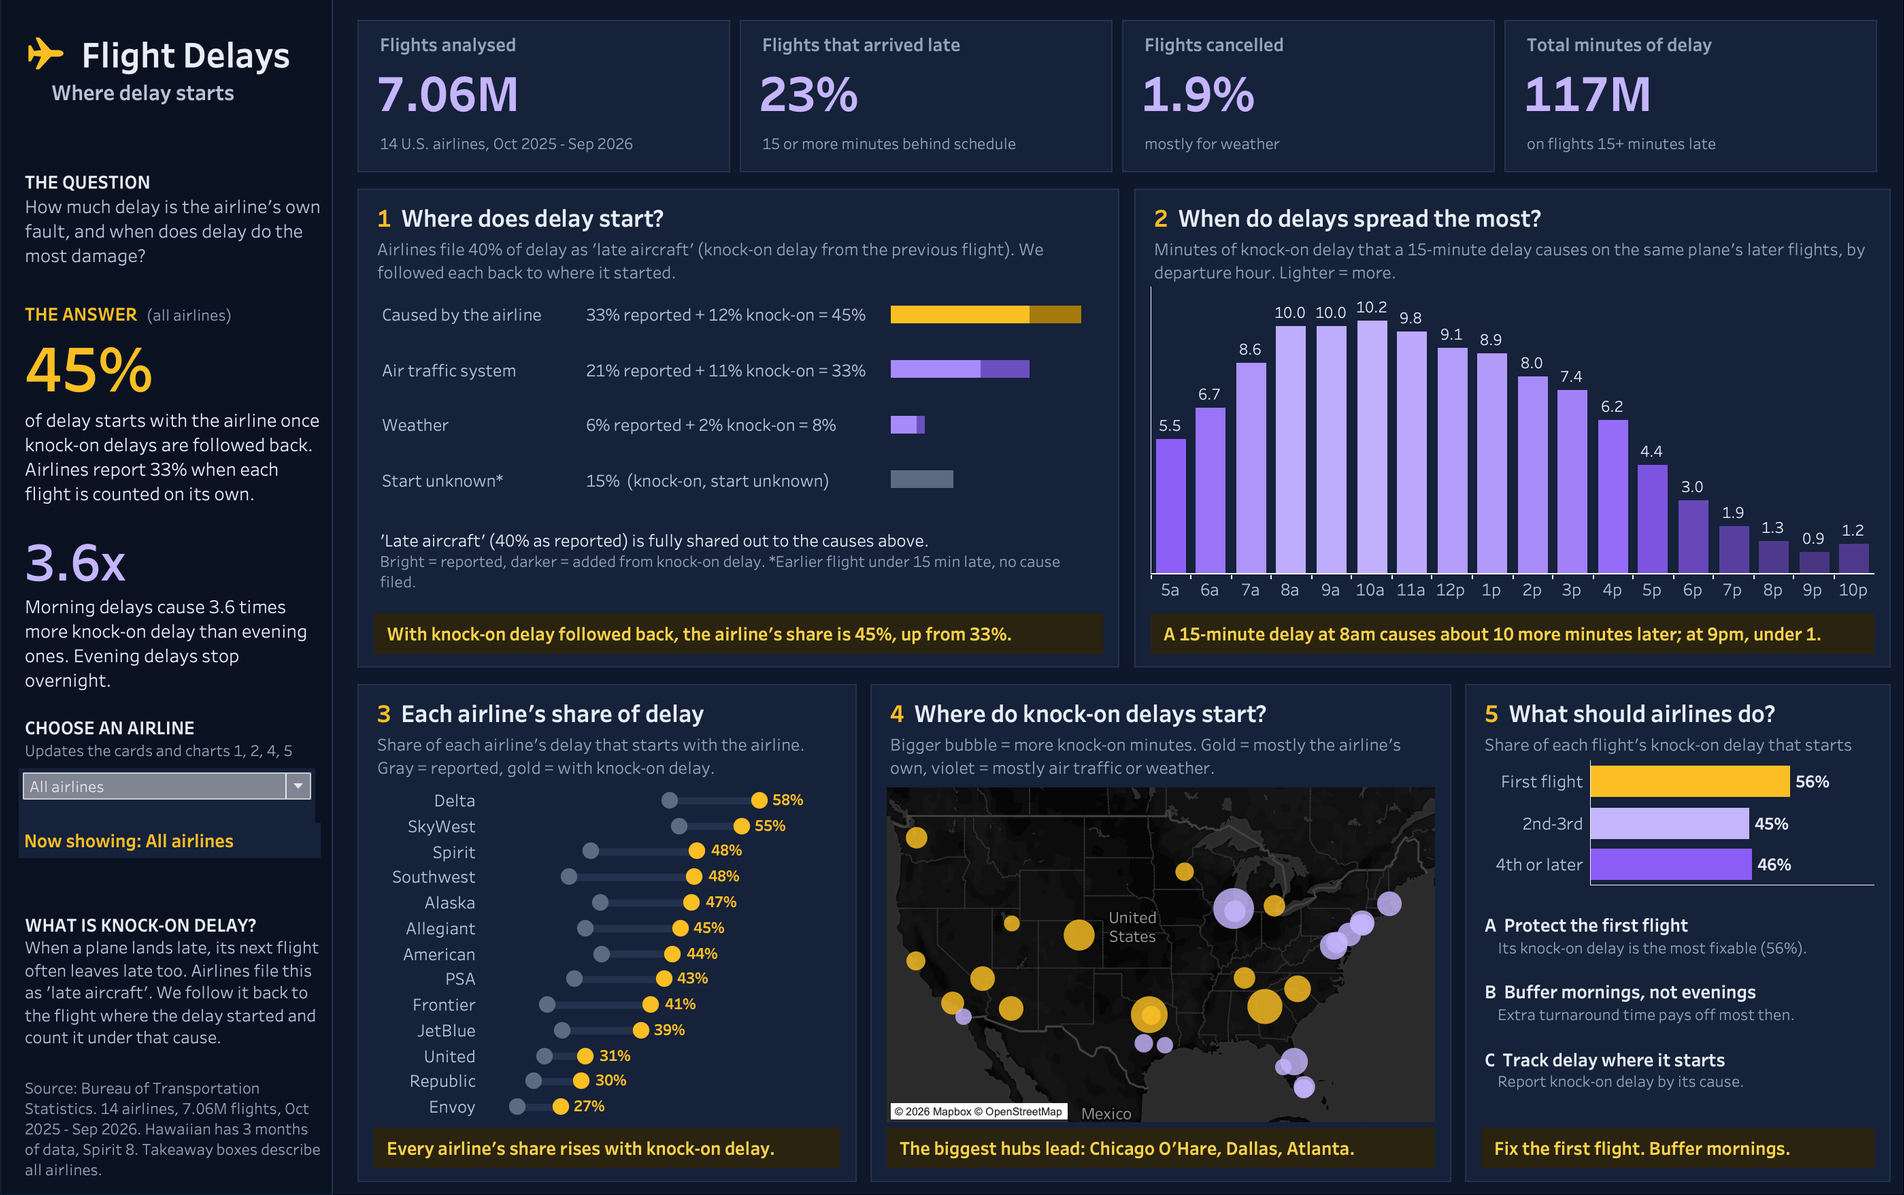

Layout of this report page (visuals, bound fields, positions):
{"tool":"tableau","page":{"name":"Dashboard","canvas":[1400,880],"ordinal":0},"visuals":[{"type":"blank","box":[0,0,245,880]},{"type":"blank","box":[263,16,274,112]},{"type":"blank","box":[544,16,274,112]},{"type":"blank","box":[825,16,274,112]},{"type":"blank","box":[1106,16,274,112]},{"type":"text","box":[16,20,220,60]},{"type":"text","box":[277,22,250,24]},{"type":"text","box":[558,22,250,24]},{"type":"text","box":[839,22,250,24]},{"type":"text","box":[1120,22,250,24]},{"type":"worksheet","title":"KPI flights","mark":"Text","box":[273,46,254,46]},{"type":"worksheet","title":"KPI late","mark":"Text","box":[554,46,254,46]},{"type":"worksheet","title":"KPI cancelled","mark":"Text","box":[835,46,254,46]},{"type":"worksheet","title":"KPI minutes","mark":"Text","box":[1116,46,254,46]},{"type":"text","box":[277,96,250,22]},{"type":"text","box":[558,96,250,22]},{"type":"text","box":[839,96,250,22]},{"type":"text","box":[1120,96,250,22]},{"type":"text","box":[16,112,222,100]},{"type":"blank","box":[263,140,560,352]},{"type":"blank","box":[834,140,556,352]},{"type":"text","box":[275,148,536,26]},{"type":"text","box":[846,148,532,26]},{"type":"text","box":[275,172,536,42]},{"type":"text","box":[846,172,532,42]},{"type":"worksheet","title":"Causes","mark":"Bar","rows":["cause","label"],"cols":["share"],"box":[275,212,536,162]},{"type":"worksheet","title":"Hours","mark":"Bar","rows":["knock_per_15"],"cols":["hour_label"],"box":[846,212,532,232]},{"type":"text","box":[16,218,222,160]},{"type":"text","box":[16,384,222,130]},{"type":"text","box":[277,386,532,56]},{"type":"text","box":[275,452,536,30]},{"type":"text","box":[846,452,532,30]},{"type":"blank","box":[263,504,367,366]},{"type":"blank","box":[640,504,427,366]},{"type":"blank","box":[1077,504,313,366]},{"type":"text","box":[275,512,343,26]},{"type":"text","box":[652,512,403,26]},{"type":"text","box":[1089,512,289,26]},{"type":"text","box":[16,522,222,44]},{"type":"text","box":[275,536,343,42]},{"type":"text","box":[652,536,403,42]},{"type":"text","box":[1089,536,289,42]},{"type":"worksheet","title":"Positions","mark":"Bar","rows":["position"],"cols":["airline_share"],"box":[1089,560,289,92]},{"type":"parameter","param":"[Parameters].[Parameter 1]","box":[14,566,218,40]},{"type":"worksheet","title":"Airlines","mark":"Automatic","rows":["airline_name"],"cols":["share_line","share"],"box":[275,580,343,244]},{"type":"worksheet","title":"Map","mark":"Circle","rows":["lat"],"cols":["lon"],"box":[652,580,403,246]},{"type":"worksheet","title":"Showing","mark":"Text","box":[14,606,222,26]},{"type":"text","box":[16,648,222,150]},{"type":"text","box":[1089,660,289,160]},{"type":"text","box":[16,790,225,85]},{"type":"text","box":[275,830,343,30]},{"type":"text","box":[652,830,403,30]},{"type":"text","box":[1089,830,289,30]}]}

Visuals, with their boxes in screenshot pixels (x1, y1, x2, y2), scaled from the page's 1400x880 canvas onto the 1904x1195 screenshot:
blank: 0 0 333 1194
blank: 358 22 730 174
blank: 740 22 1112 174
blank: 1122 22 1495 174
blank: 1504 22 1877 174
text: 22 27 321 109
text: 377 30 717 62
text: 759 30 1099 62
text: 1141 30 1481 62
text: 1523 30 1863 62
"KPI flights" worksheet (Text marks): 371 62 717 125
"KPI late" worksheet (Text marks): 753 62 1099 125
"KPI cancelled" worksheet (Text marks): 1136 62 1481 125
"KPI minutes" worksheet (Text marks): 1518 62 1863 125
text: 377 130 717 160
text: 759 130 1099 160
text: 1141 130 1481 160
text: 1523 130 1863 160
text: 22 152 324 288
blank: 358 190 1119 668
blank: 1134 190 1890 668
text: 374 201 1103 236
text: 1151 201 1874 236
text: 374 234 1103 291
text: 1151 234 1874 291
"Causes" worksheet (Bar marks): 374 288 1103 508
"Hours" worksheet (Bar marks): 1151 288 1874 603
text: 22 296 324 513
text: 22 521 324 698
text: 377 524 1100 600
text: 374 614 1103 655
text: 1151 614 1874 655
blank: 358 684 857 1181
blank: 870 684 1451 1181
blank: 1465 684 1890 1181
text: 374 695 840 731
text: 887 695 1435 731
text: 1481 695 1874 731
text: 22 709 324 769
text: 374 728 840 785
text: 887 728 1435 785
text: 1481 728 1874 785
"Positions" worksheet (Bar marks): 1481 760 1874 885
parameter: 19 769 316 823
"Airlines" worksheet: 374 788 840 1119
"Map" worksheet (Circle marks): 887 788 1435 1122
"Showing" worksheet (Text marks): 19 823 321 858
text: 22 880 324 1084
text: 1481 896 1874 1114
text: 22 1073 328 1188
text: 374 1127 840 1168
text: 887 1127 1435 1168
text: 1481 1127 1874 1168
